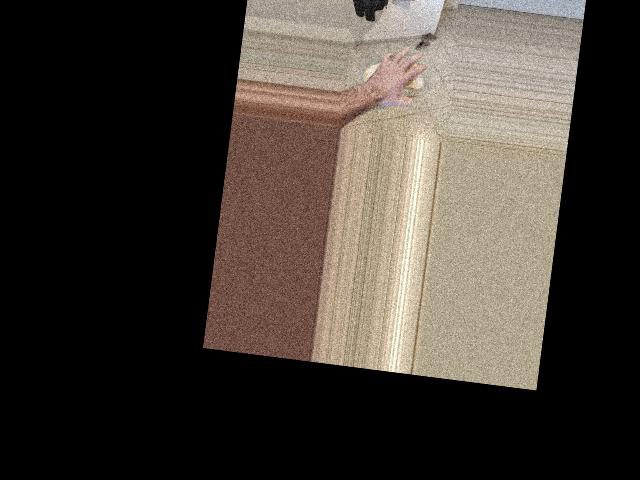cheese: (357, 42, 430, 115)
